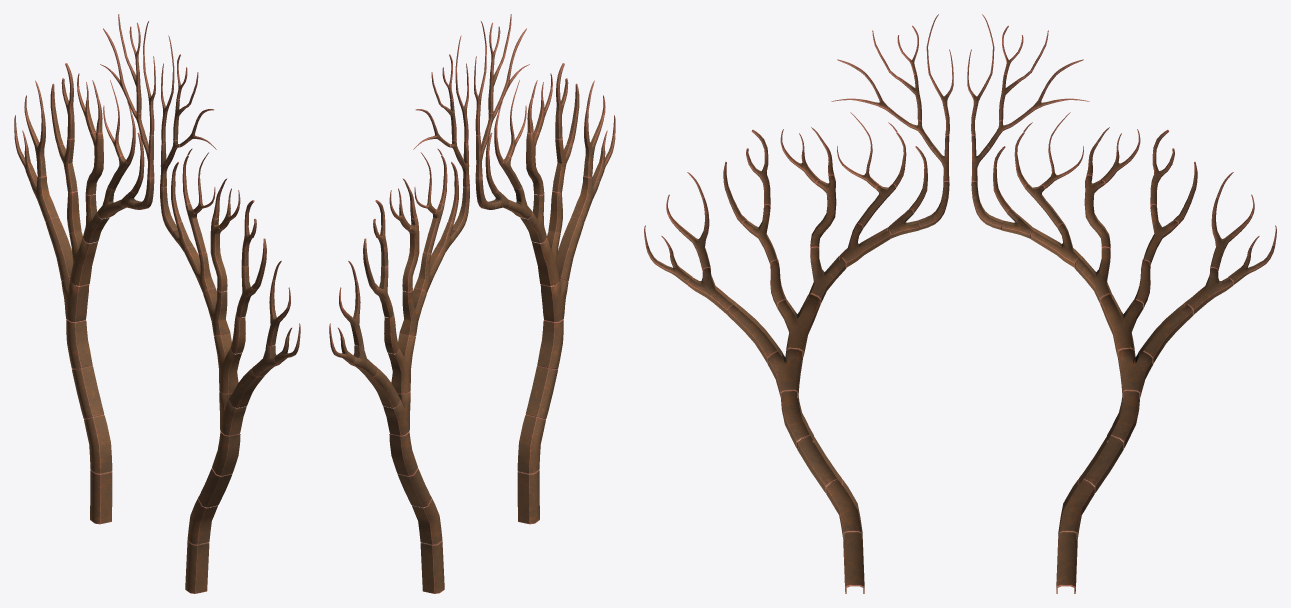
Rendered from arch.glb.
3 views of the same model, side by side, from view 1: azimuth 30°, elevation 25°; view 2: azimuth 150°, elevation 25°; view 3: azimuth 270°, elevation 25° (orthographic). The views are drawn at different scales.
Visible parts, largest first — view 1: Object_2; view 2: Object_2; view 3: Object_2.
Part boxes in pixels (left/top/right/bottom): Object_2: left=14, top=14, right=300, bottom=593; Object_2: left=329, top=14, right=615, bottom=593; Object_2: left=644, top=14, right=1276, bottom=593.
Bounding box in the file's own units: 0.1325 × 3.05 × 3.
1 material, 1 textured.
